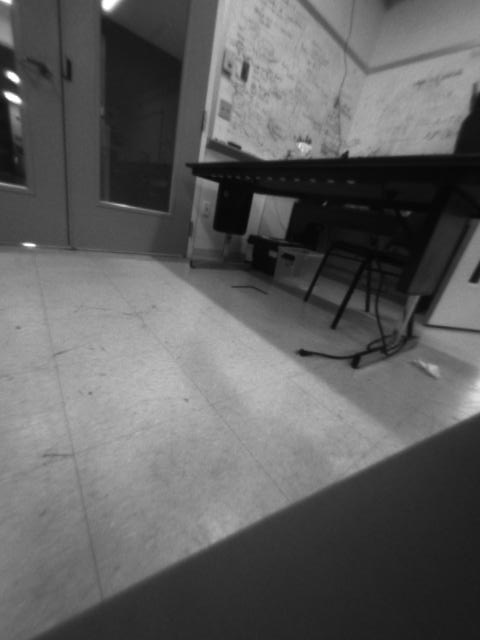door_handle: (15, 47, 54, 84)
